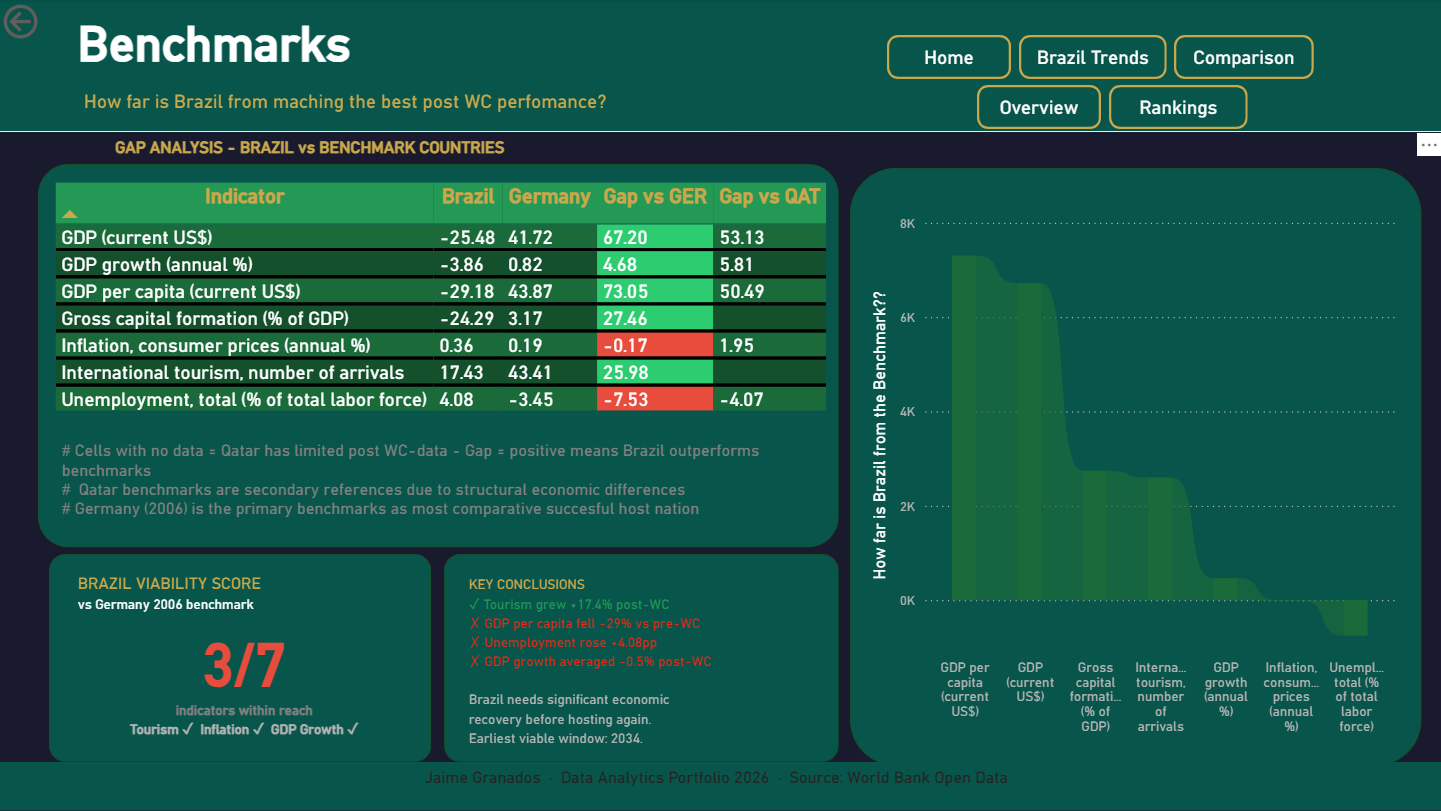

What the dashboard file says about the page in this screenshot:
{"tool":"powerbi","page":{"name":"Benchmarks","canvas":[1280,720],"ordinal":5},"visuals":[{"type":"shape","box":[0,0,1280,118],"z":0},{"type":"textbox","box":[66,10,462,66],"z":1000},{"type":"textbox","box":[51,74,600,44],"z":2000},{"type":"shape","box":[35.6,146.4,710,340],"z":3000},{"type":"shape","box":[755.6,150,506.7,530],"z":4000},{"type":"actionButton","box":[0,0,100,40],"z":5000},{"type":"tableEx","fields":{"Values":["v_benchmarks.series_name","v_benchmarks.brazil_change","v_benchmarks.germany_change","v_benchmarks.gap_vs_germany","v_benchmarks.gap_vs_qatar"]},"box":[45.6,157.5,700,230],"z":6000},{"type":"textbox","box":[51.1,386.4,667.8,90],"z":7000},{"type":"ribbonChart","fields":{"Category":["v_benchmarks.series_name"],"Y":["v_benchmarks.Gap vs Germany Numeric"]},"box":[768.9,184.4,475.6,474.4],"z":8000},{"type":"shape","box":[395.6,492.2,350,184.4],"z":9000},{"type":"textbox","box":[412.2,504.4,320,166.7],"z":10000},{"type":"shape","box":[0,676.7,1280,43.3],"z":11000},{"type":"textbox","box":[251.1,676.7,772.2,43.3],"z":12000},{"type":"shape","box":[45.6,492.2,338.9,184.4],"z":13000},{"type":"textbox","box":[65.6,504.4,305.6,162.2],"z":14000},{"type":"textbox","box":[51,118,450,33],"z":15000},{"type":"actionButton","box":[905,32,131,39],"z":16000},{"type":"actionButton","box":[1043,32,124,39],"z":17000},{"type":"actionButton","box":[985,76,123,39],"z":18000},{"type":"actionButton","box":[868,76,110,39],"z":19000},{"type":"actionButton","box":[788,32,110,39],"z":20000}]}

Visuals, with their boxes in screenshot pixels (x1, y1, x2, y2), scaled from the page's 1280x720 canvas onto the 1441x811 screenshot:
shape: BBox(0, 0, 1440, 133)
textbox: BBox(74, 11, 594, 86)
textbox: BBox(57, 83, 733, 133)
shape: BBox(40, 165, 839, 548)
shape: BBox(851, 169, 1421, 766)
actionButton: BBox(0, 0, 113, 45)
tableEx - v_benchmarks.series_name x v_benchmarks.brazil_change: BBox(51, 177, 839, 436)
textbox: BBox(58, 435, 809, 537)
ribbonChart - v_benchmarks.series_name x v_benchmarks.Gap vs Germany Numeric: BBox(866, 208, 1401, 742)
shape: BBox(445, 554, 839, 762)
textbox: BBox(464, 568, 824, 756)
shape: BBox(0, 762, 1440, 810)
textbox: BBox(283, 762, 1152, 810)
shape: BBox(51, 554, 433, 762)
textbox: BBox(74, 568, 418, 751)
textbox: BBox(57, 133, 564, 170)
actionButton: BBox(1019, 36, 1166, 80)
actionButton: BBox(1174, 36, 1314, 80)
actionButton: BBox(1109, 86, 1247, 130)
actionButton: BBox(977, 86, 1101, 130)
actionButton: BBox(887, 36, 1011, 80)
